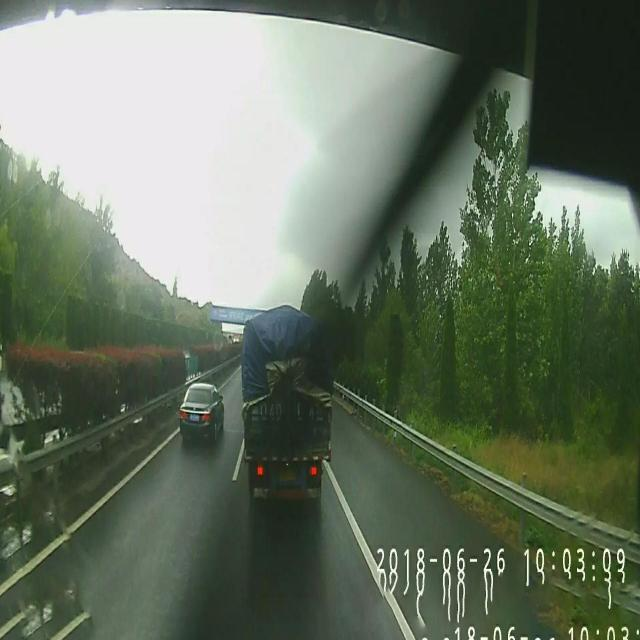car: (180, 382, 223, 440)
